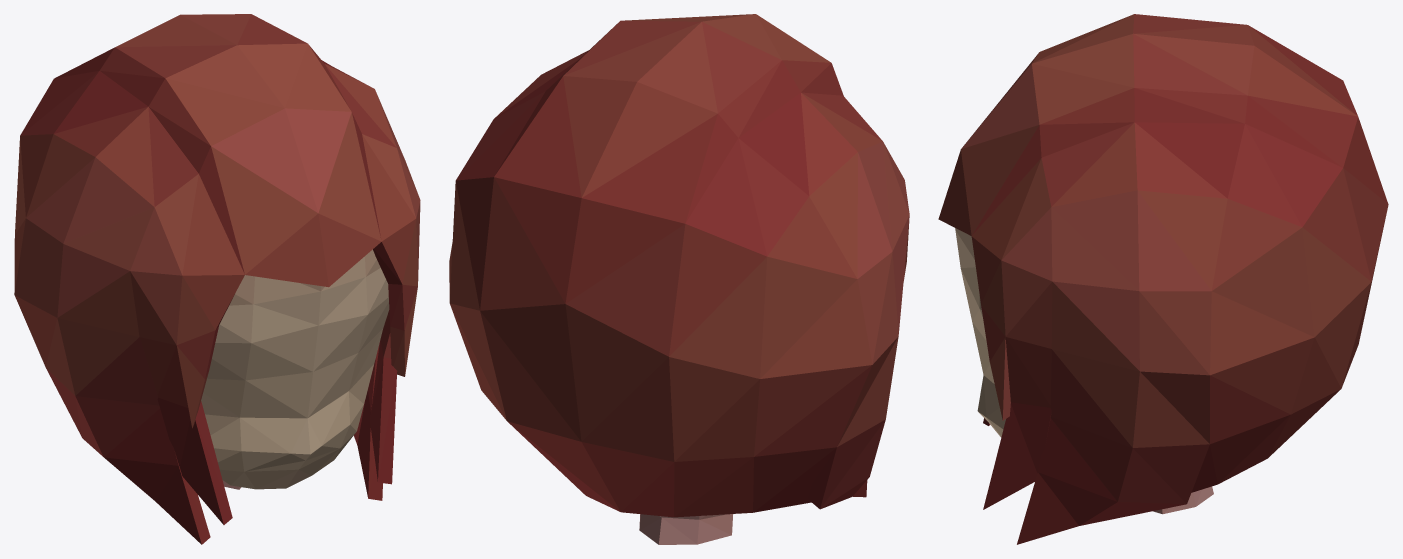
Rendered from helm_lightskin_bob_red.fbx.
3 renders of one model, left to right at view 1: azimuth 30°, elevation 25°; view 2: azimuth 150°, elevation 25°; view 3: azimuth 270°, elevation 25°, orthographic. The views are drawn at different scales.
Visible parts, largest first — view 1: helm_lightskin_bob_red; view 2: helm_lightskin_bob_red; view 3: helm_lightskin_bob_red.
Part boxes in pixels (bbox=[...]): helm_lightskin_bob_red: bbox=[14, 14, 420, 544]; helm_lightskin_bob_red: bbox=[449, 14, 909, 544]; helm_lightskin_bob_red: bbox=[938, 14, 1388, 544].
Bounding box in the file's own units: 1.18 × 1.34 × 1.16.
